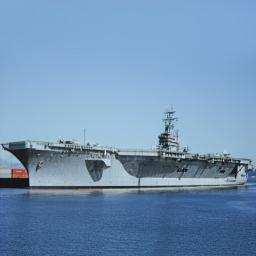Portanaves: (1, 104, 255, 192)
